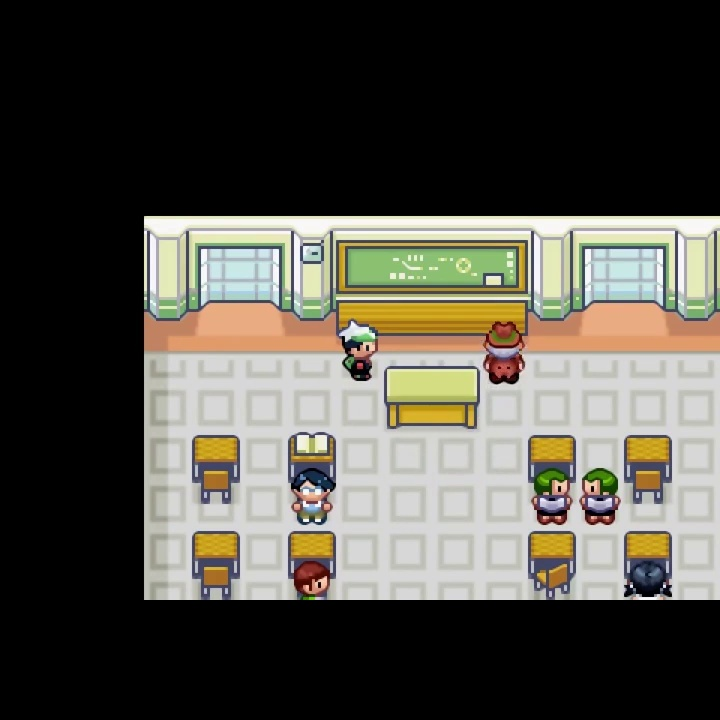agent: (336, 317, 380, 384)
npc: (481, 319, 526, 387), (288, 466, 338, 526), (576, 465, 624, 527), (530, 469, 575, 527), (622, 558, 674, 601), (289, 558, 331, 600)
